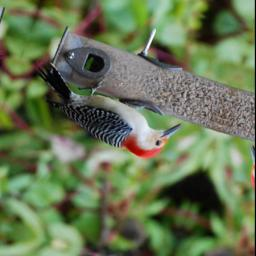Woodpecker: (15, 56, 191, 167)
